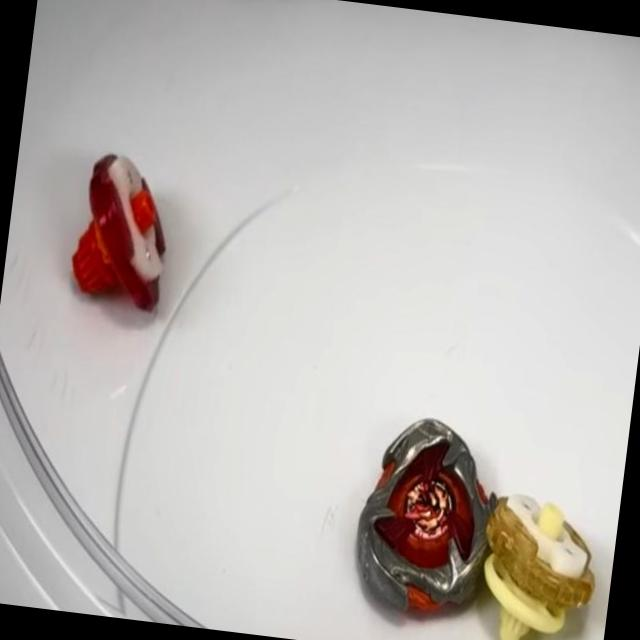Beyblade: (348, 412, 504, 624), (474, 484, 605, 640), (68, 150, 178, 314)
